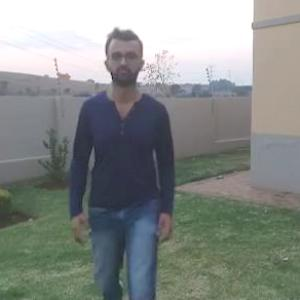follow: (68, 21, 178, 299)
